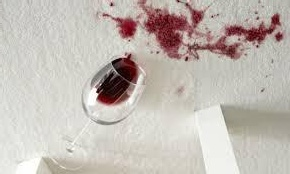wine: (112, 0, 201, 65), (208, 13, 282, 64)
